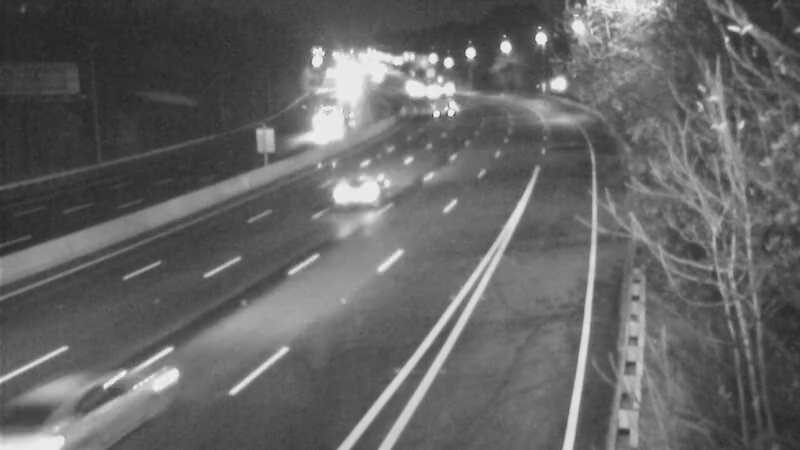vehicle: (314, 143, 394, 223), (409, 77, 459, 127), (301, 103, 351, 153)
